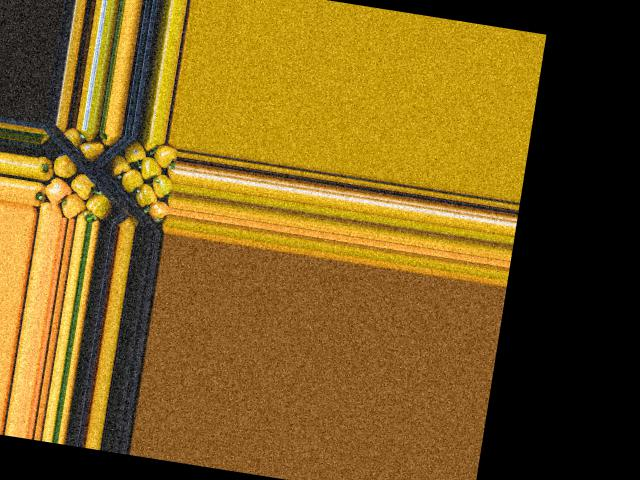bell_pepper: (148, 139, 178, 166)
